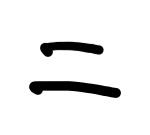eqv: (26, 38, 122, 102)
